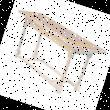Mesa: (0, 4, 109, 103)
